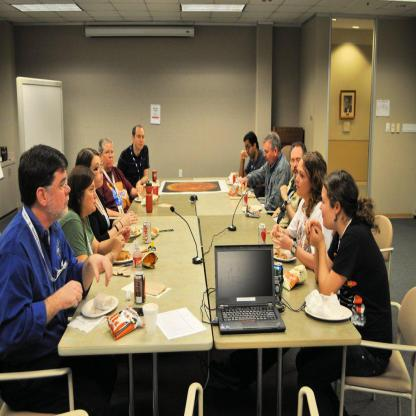board: (216, 241, 289, 344), (134, 272, 146, 302), (274, 262, 283, 294), (133, 243, 142, 274), (146, 181, 153, 214), (144, 219, 152, 243), (258, 223, 266, 245), (242, 192, 248, 210), (152, 170, 158, 182), (154, 184, 158, 200), (233, 173, 238, 184)
